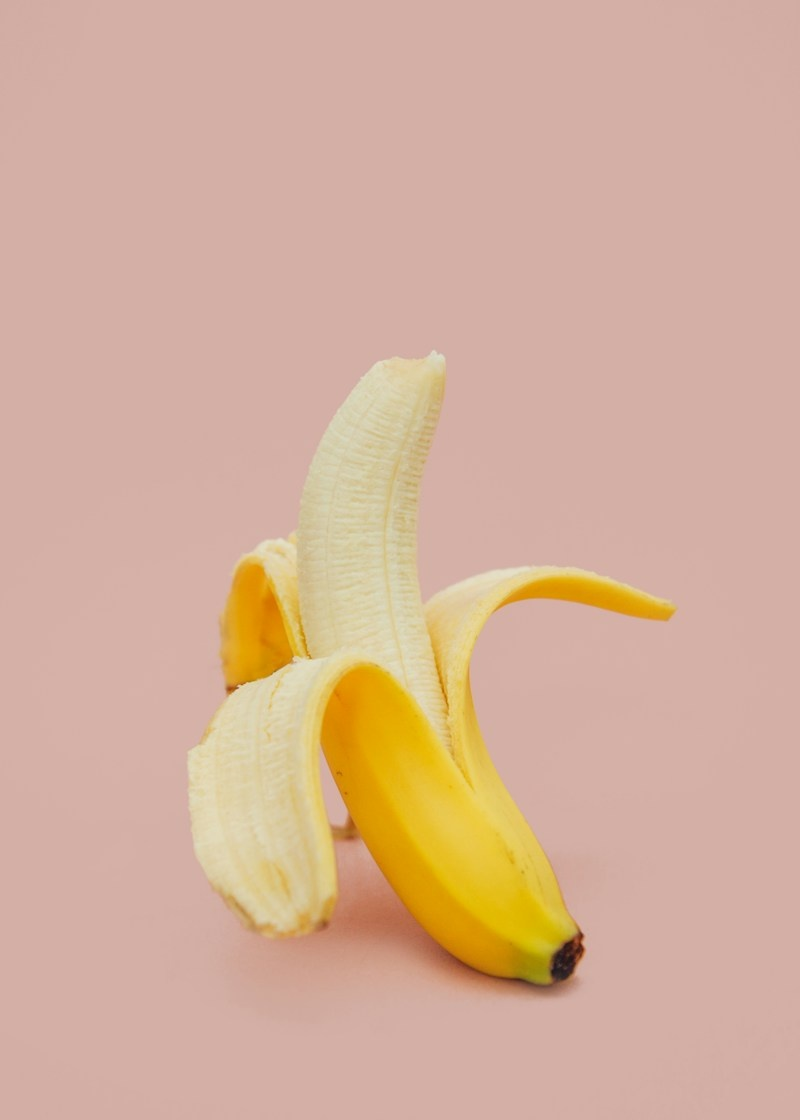banana peel: (186, 350, 678, 985), (313, 656, 591, 980), (186, 655, 346, 940)
